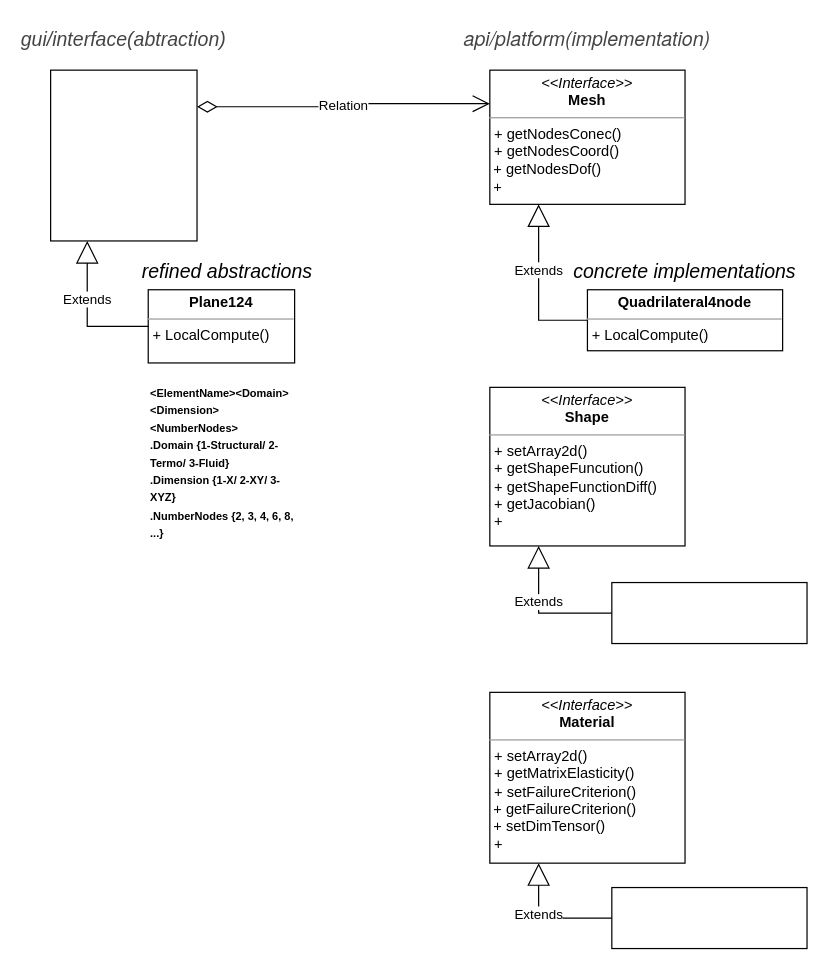
The diagram is 828 pixels wide and 970 high, and some of its shapes have lost their labels. Here are the shapes that lost their labels. From the top down, the box of each, then its label:
(49, 69, 197, 241): Element + Shape() + Geometry() + Material() + Stiff() + Mass() +
(611, 581, 807, 644): IsoQuad4 + LocalCompute()
(611, 886, 807, 949): IsotropicPlaneStress + LocalCompute()
